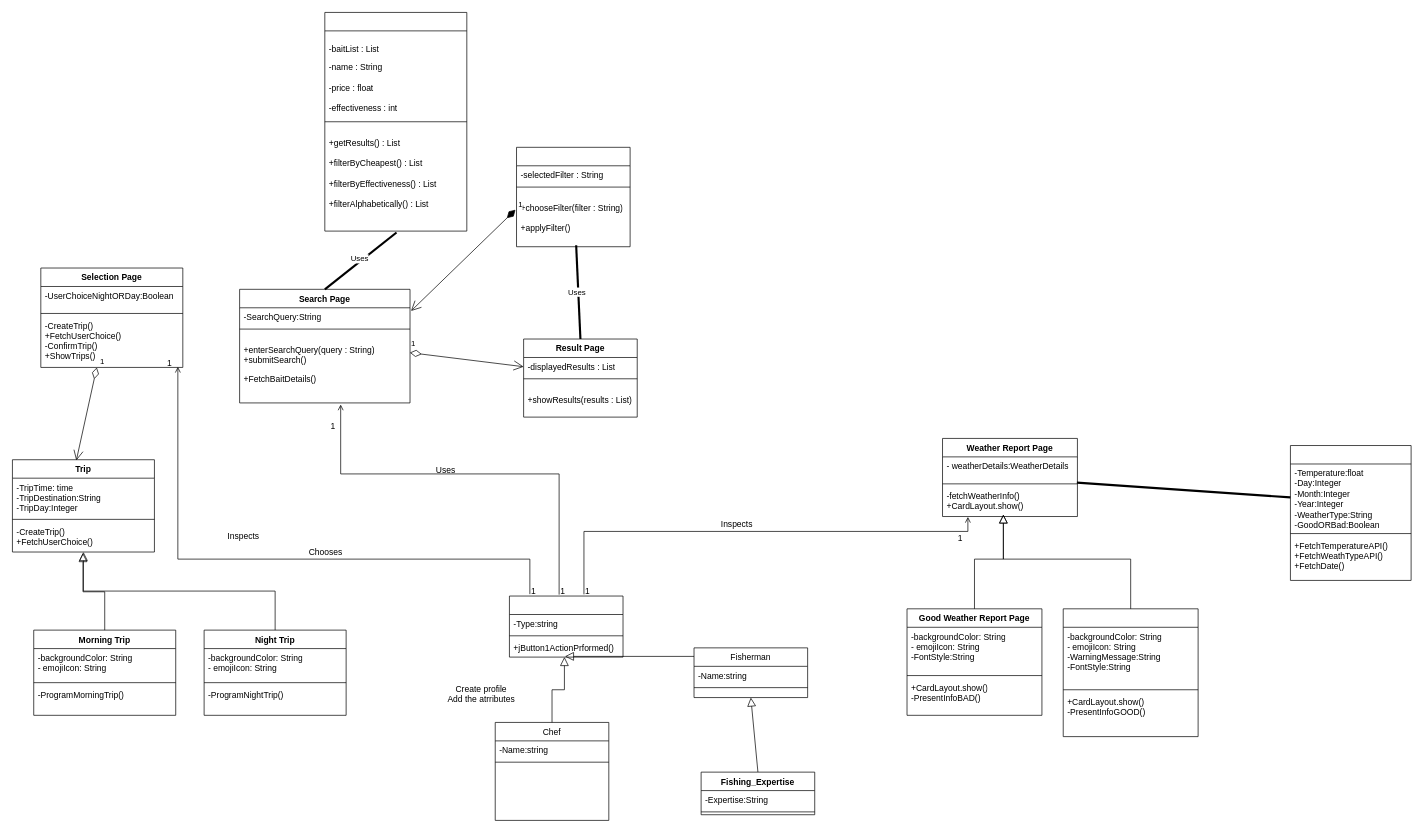
Image size: 1424x833. Some labels were removed from this diagram. Here are the shapes that lost their labels. From the top down, the box of each, then its label:
(324, 12, 467, 231): Bait Results
(516, 147, 630, 247): Sorting Page
(1290, 445, 1411, 580): Weather Details
(509, 595, 623, 657): User
(1063, 608, 1198, 737): Bad Weather Report Page
